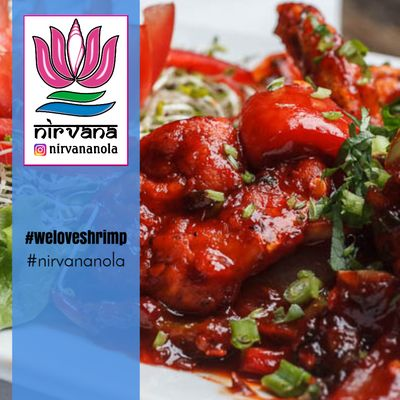pizza: (140, 0, 176, 110)
